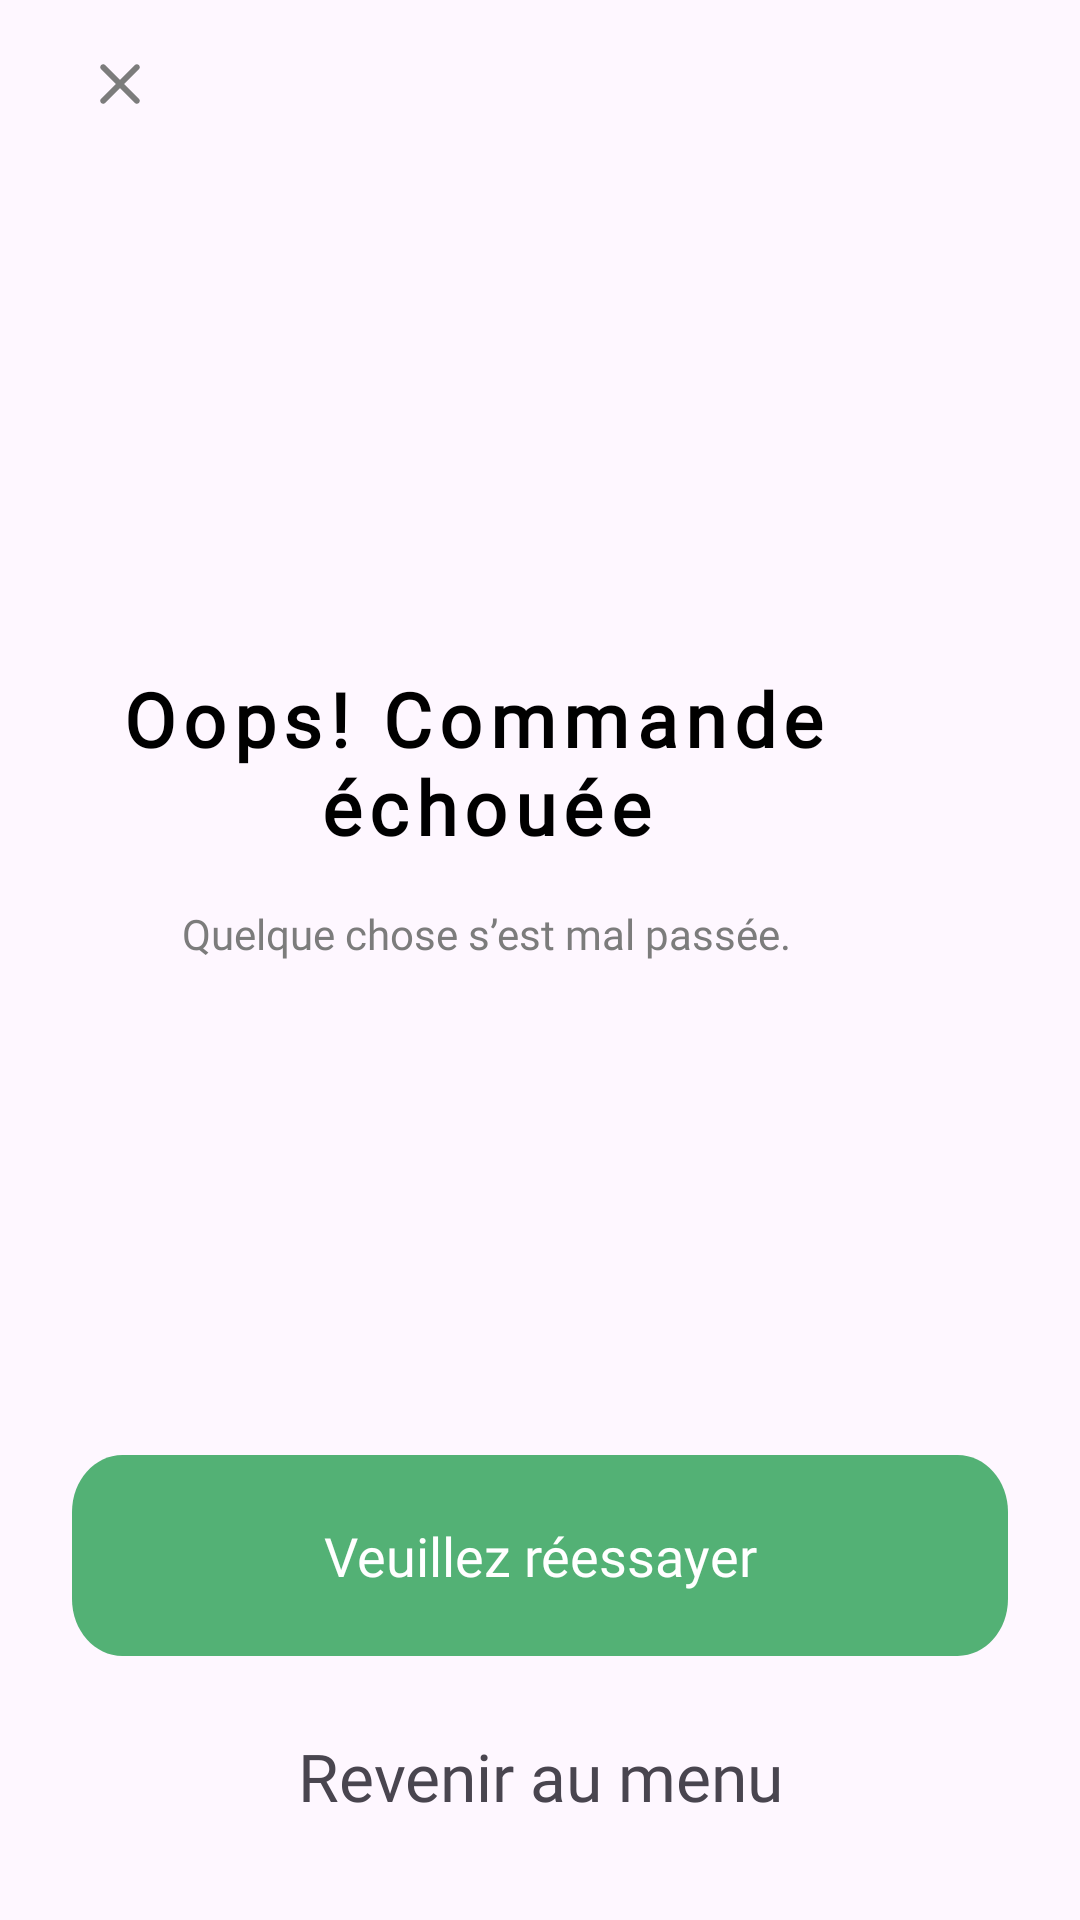

Icons on this 1080 × 1920 Android screen, each with its box as (x1, y1, x2, y2):
close: (100, 64, 140, 104)
